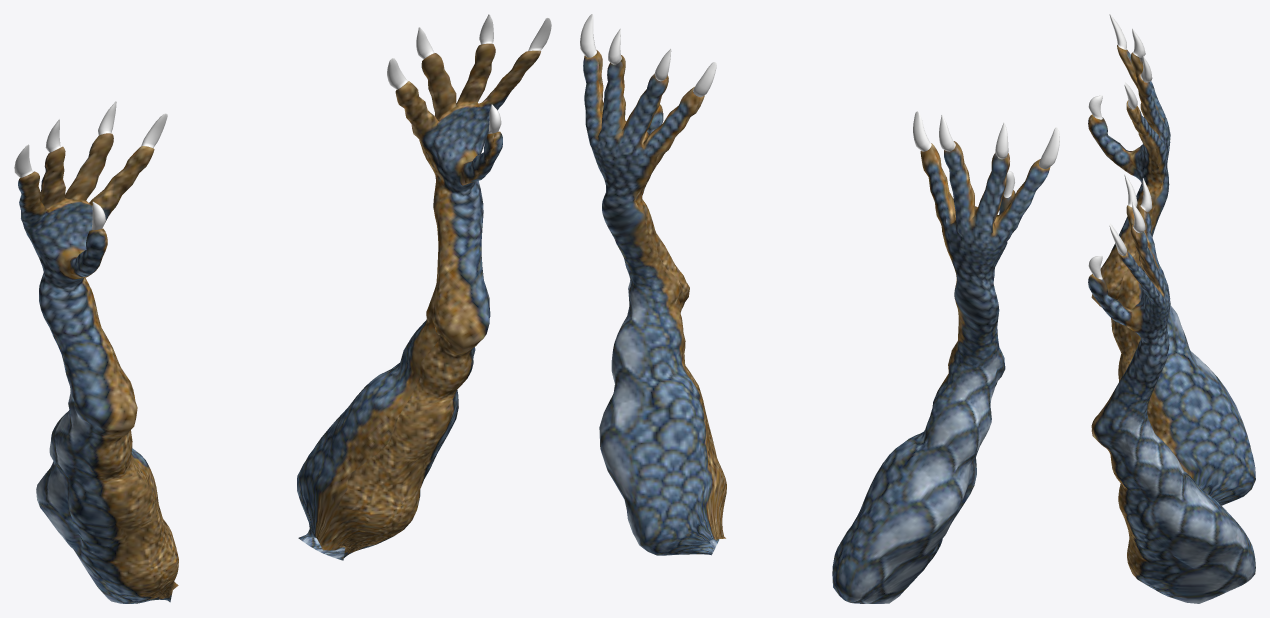
The model's file is dragon_leg.obj.
3 renders of one model, left to right at view 1: azimuth 30°, elevation 25°; view 2: azimuth 150°, elevation 25°; view 3: azimuth 270°, elevation 25°, orthographic. The views are drawn at different scales.
Visible parts, largest first — view 1: Eastern_Dragon_2.004; view 2: Eastern_Dragon_2.004; view 3: Eastern_Dragon_2.004.
Boxes of the visible parts, left/top/right/bottom form: Eastern_Dragon_2.004: left=14, top=14, right=551, bottom=603; Eastern_Dragon_2.004: left=580, top=14, right=1059, bottom=603; Eastern_Dragon_2.004: left=1088, top=14, right=1255, bottom=603.
Bounding box in the file's own units: 0.3693 × 0.3525 × 0.1217.
